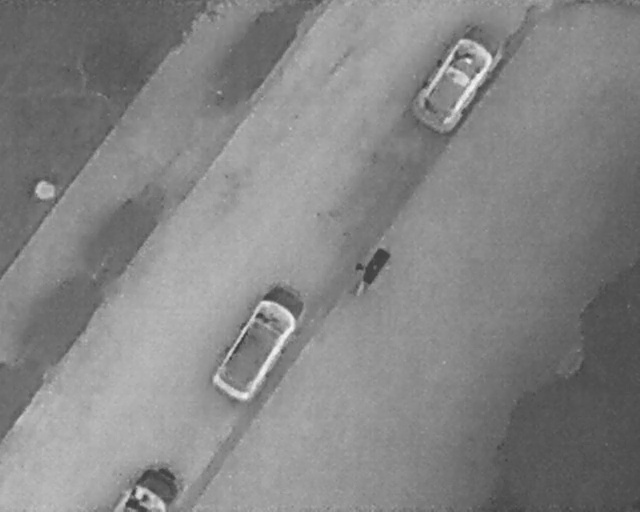Car: (201, 270, 317, 410), (405, 14, 511, 139), (108, 463, 184, 510)
